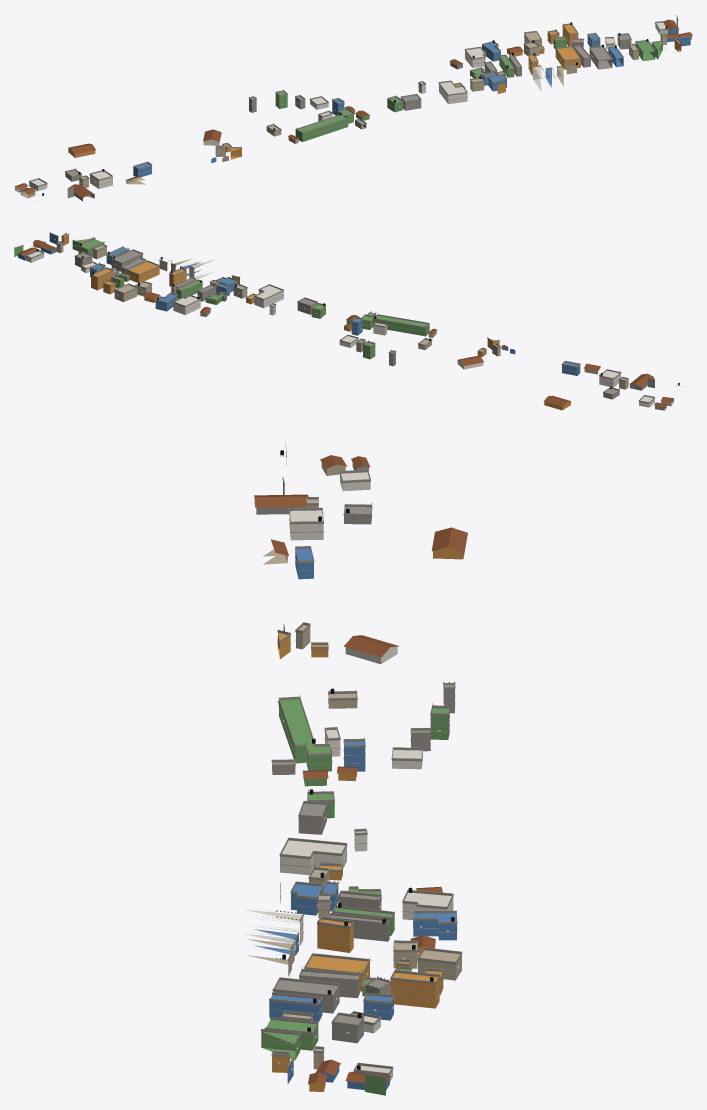
The model's file is zone_t-5_3.glb.
3 views of the same model, one above another, from view 1: azimuth 30°, elevation 25°; view 2: azimuth 150°, elevation 25°; view 3: azimuth 270°, elevation 25° (orthographic). The views are drawn at different scales.
Parts seen in each view (by area): view 1: parapet_t-5_3, bld_peinture_vert_t-5_3-col, bld_beton_t-5_3-col, bld_peinture_blanc_t-5_3-col, bld_peinture_bleu_t-5_3-col, bld_peinture_ecaillee_t-5_3-col, bld_peinture_ocre_t-5_3-col, toit_tole_t-5_3, bandeau_t-5_3; view 2: parapet_t-5_3, bld_peinture_blanc_t-5_3-col, bld_peinture_vert_t-5_3-col, bld_beton_t-5_3-col, bld_peinture_ocre_t-5_3-col, bld_peinture_ecaillee_t-5_3-col, bld_peinture_bleu_t-5_3-col, toit_tole_t-5_3, bandeau_t-5_3; view 3: parapet_t-5_3, bld_beton_t-5_3-col, bld_peinture_blanc_t-5_3-col, bld_peinture_vert_t-5_3-col, bld_peinture_bleu_t-5_3-col, bld_peinture_ocre_t-5_3-col, toit_tole_t-5_3, bld_peinture_ecaillee_t-5_3-col, bandeau_t-5_3.
Boxes of the visible parts, x1=… form: parapet_t-5_3: x1=29, y1=14, x2=690, y2=189; bld_peinture_vert_t-5_3-col: x1=275, y1=17, x2=677, y2=141; bld_beton_t-5_3-col: x1=15, y1=34, x2=631, y2=201; bld_peinture_blanc_t-5_3-col: x1=29, y1=22, x2=667, y2=191; bld_peinture_bleu_t-5_3-col: x1=133, y1=29, x2=690, y2=177; bld_peinture_ecaillee_t-5_3-col: x1=20, y1=32, x2=666, y2=198; bld_peinture_ocre_t-5_3-col: x1=68, y1=25, x2=691, y2=159; toit_tole_t-5_3: x1=14, y1=19, x2=692, y2=197; bandeau_t-5_3: x1=34, y1=20, x2=690, y2=201; parapet_t-5_3: x1=14, y1=232, x2=681, y2=403; bld_peinture_blanc_t-5_3-col: x1=25, y1=251, x2=654, y2=407; bld_peinture_vert_t-5_3-col: x1=14, y1=239, x2=429, y2=359; bld_beton_t-5_3-col: x1=75, y1=250, x2=666, y2=410; bld_peinture_ocre_t-5_3-col: x1=33, y1=234, x2=570, y2=410; bld_peinture_ecaillee_t-5_3-col: x1=56, y1=242, x2=673, y2=406; bld_peinture_bleu_t-5_3-col: x1=18, y1=234, x2=580, y2=375; toit_tole_t-5_3: x1=17, y1=240, x2=673, y2=406; bandeau_t-5_3: x1=14, y1=238, x2=680, y2=391; parapet_t-5_3: x1=250, y1=442, x2=462, y2=1079; bld_beton_t-5_3-col: x1=256, y1=463, x2=454, y2=1043; bld_peinture_blanc_t-5_3-col: x1=243, y1=472, x2=453, y2=1081; bld_peinture_vert_t-5_3-col: x1=261, y1=699, x2=449, y2=1095; bld_peinture_bleu_t-5_3-col: x1=253, y1=548, x2=456, y2=1090; bld_peinture_ocre_t-5_3-col: x1=272, y1=550, x2=464, y2=1091; toit_tole_t-5_3: x1=254, y1=455, x2=467, y2=1084; bld_peinture_ecaillee_t-5_3-col: x1=247, y1=463, x2=461, y2=1069; bandeau_t-5_3: x1=259, y1=452, x2=462, y2=1087.
Bounding box in the file's own units: 508 × 11 × 77.09.
